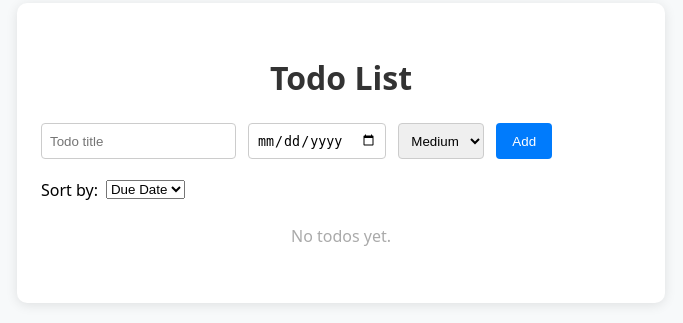
Test case: App Integration › can delete a todo
In the field with placeholder "Todo title": (138, 141) [41,123,236,159], type "Test todo item"
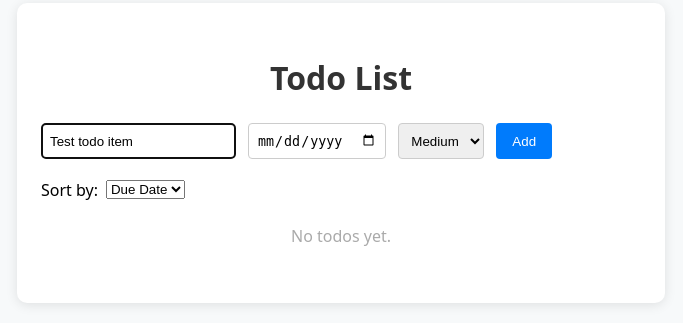
Click the button "Add": click(524, 141) [496,123,552,159]
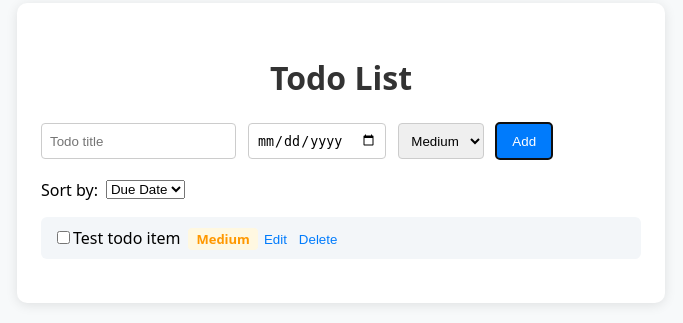
Click the button "Delete": click(318, 239) [293,230,343,249]
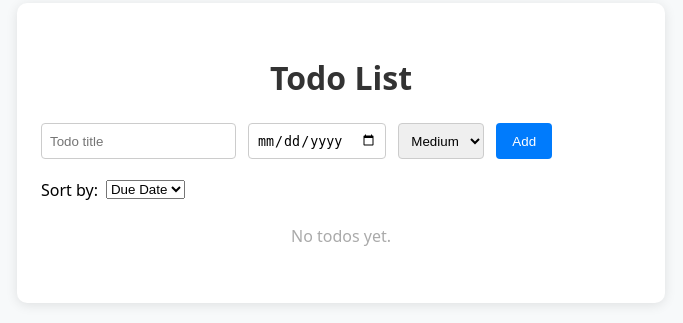
Now the text "Test todo item" is gone
Now the text "No todos yet." is shown, box [291,225,391,247]
